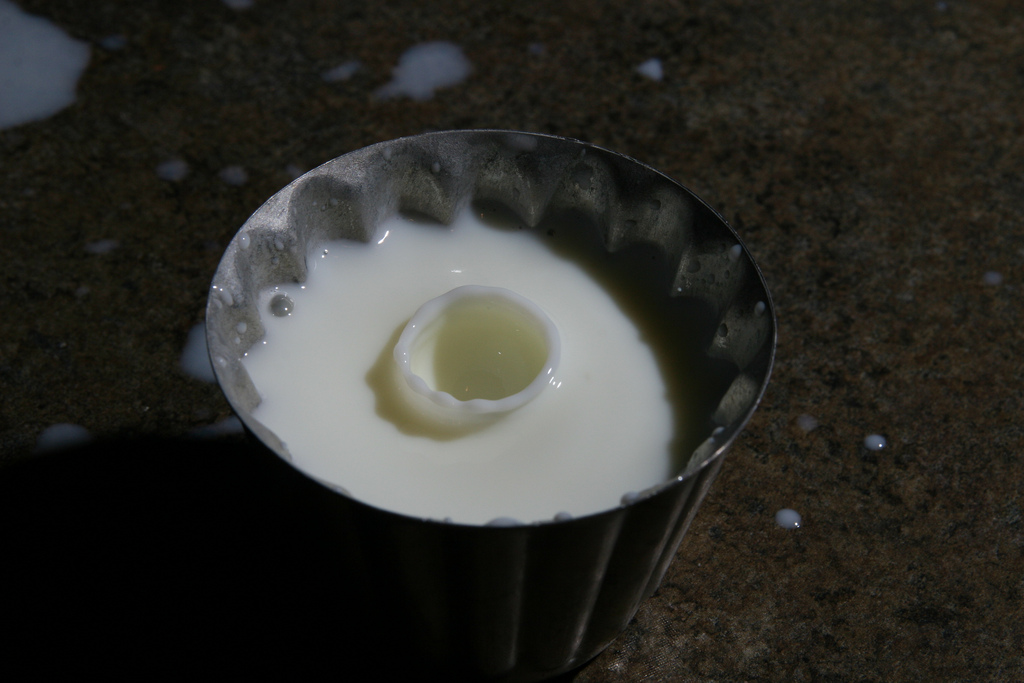glass of milk: (184, 121, 819, 651)
